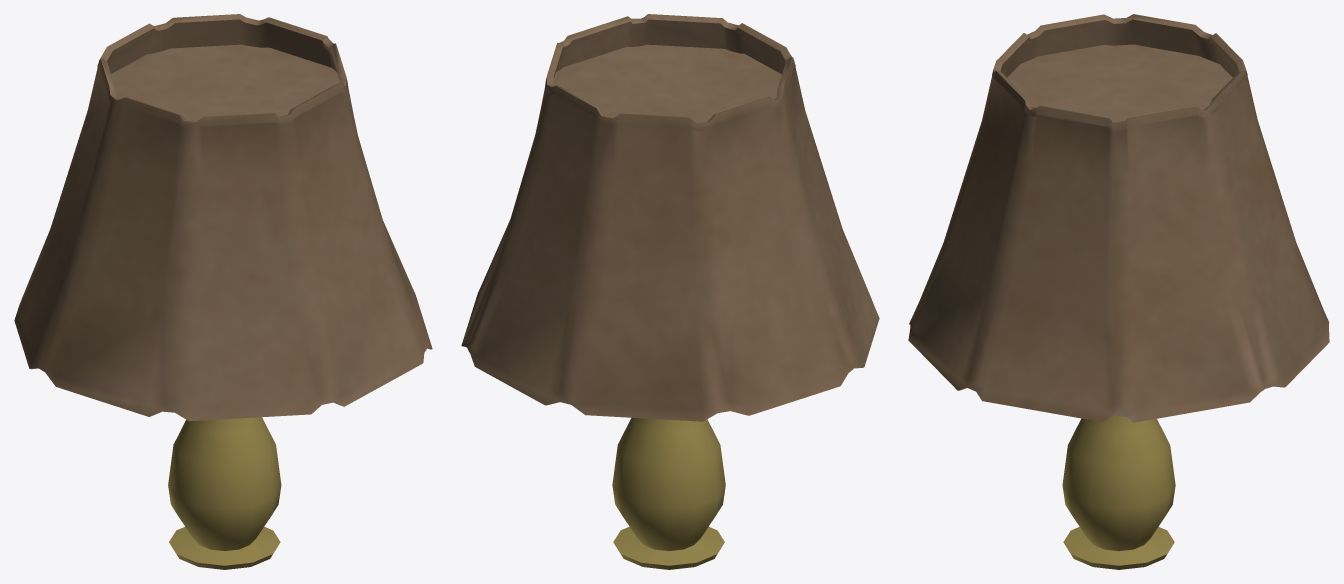
Rendered from LampWarden.fbx.
The picture shows the model from 3 angles, left to right: view 1: azimuth 30°, elevation 25°; view 2: azimuth 150°, elevation 25°; view 3: azimuth 270°, elevation 25°; orthographic projection.
Parts seen in each view (by area): view 1: LampWarden; view 2: LampWarden; view 3: LampWarden.
Part boxes in pixels (x1,y1,x2,y2): LampWarden: [14, 14, 432, 569]; LampWarden: [461, 14, 879, 569]; LampWarden: [908, 14, 1329, 569].
Size of the model in its own units: 0.7548 by 0.9503 by 0.7516.
